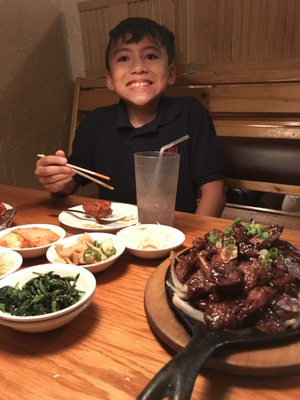pizza: (134, 151, 180, 227)
sushi: (0, 263, 96, 333), (46, 232, 127, 274), (115, 223, 185, 259), (0, 223, 65, 259), (0, 246, 23, 281)
